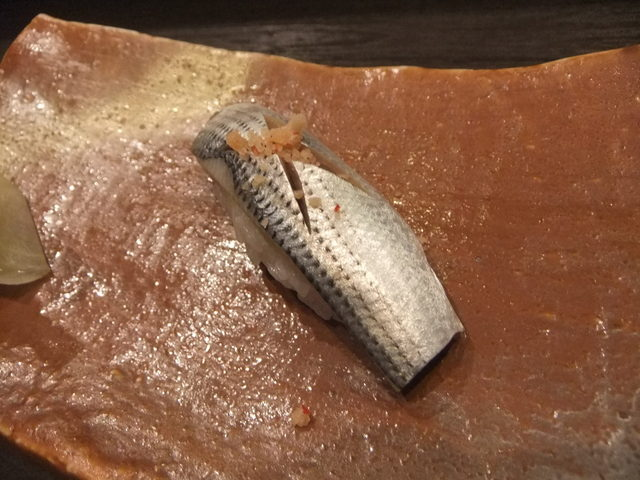spotted-shad: (191, 98, 472, 404)
